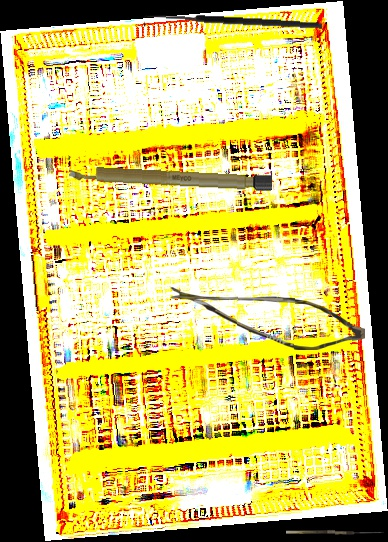Hook Surgical: (143, 12, 323, 38), (286, 524, 385, 536)
Micro Scissor: (166, 287, 366, 351)
Scalpel Handle: (68, 163, 273, 192)
